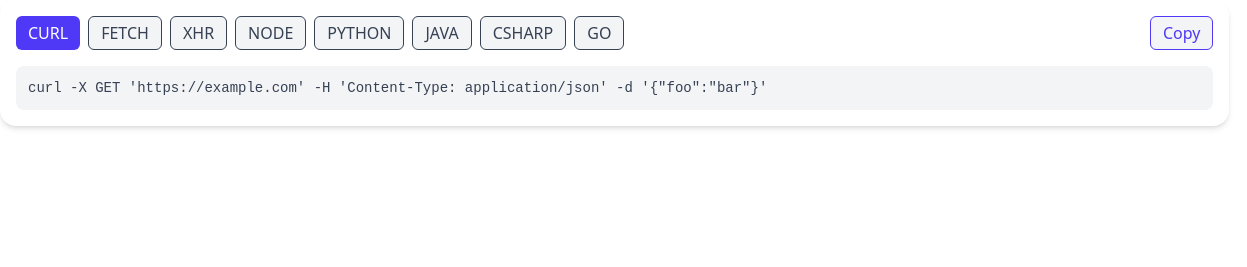
Scenario: CodeGenerator › switches language to fetch and renders fetch code
Click the button "FETCH": coordinates (125, 33) [88,16,162,50]
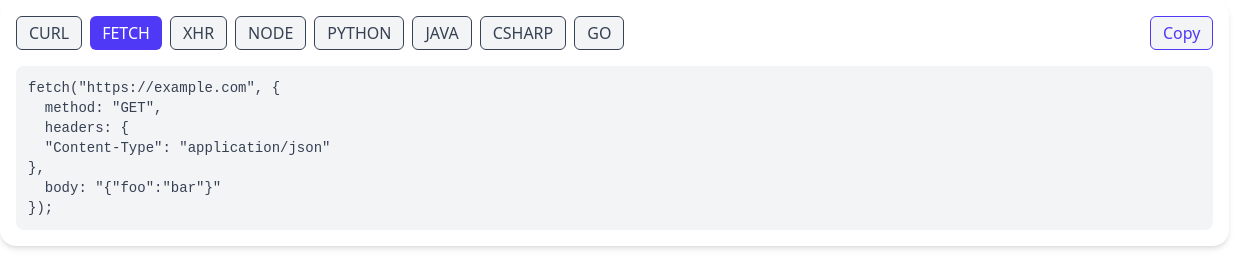
Result: the text "fetch(\"https://example.com\"" is shown at [28,80,330,216]
